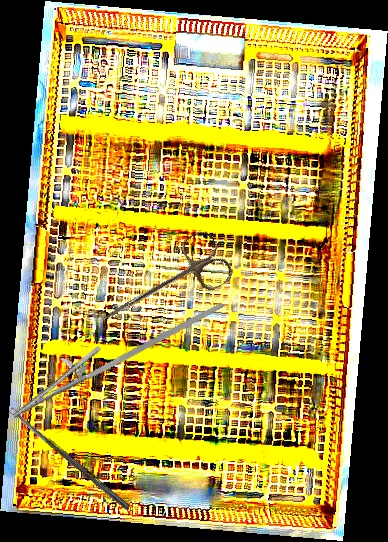Iris Scissors: (88, 226, 237, 348)
Needle Holder: (1, 264, 225, 442)
Surgical Spoon: (8, 406, 132, 511)
